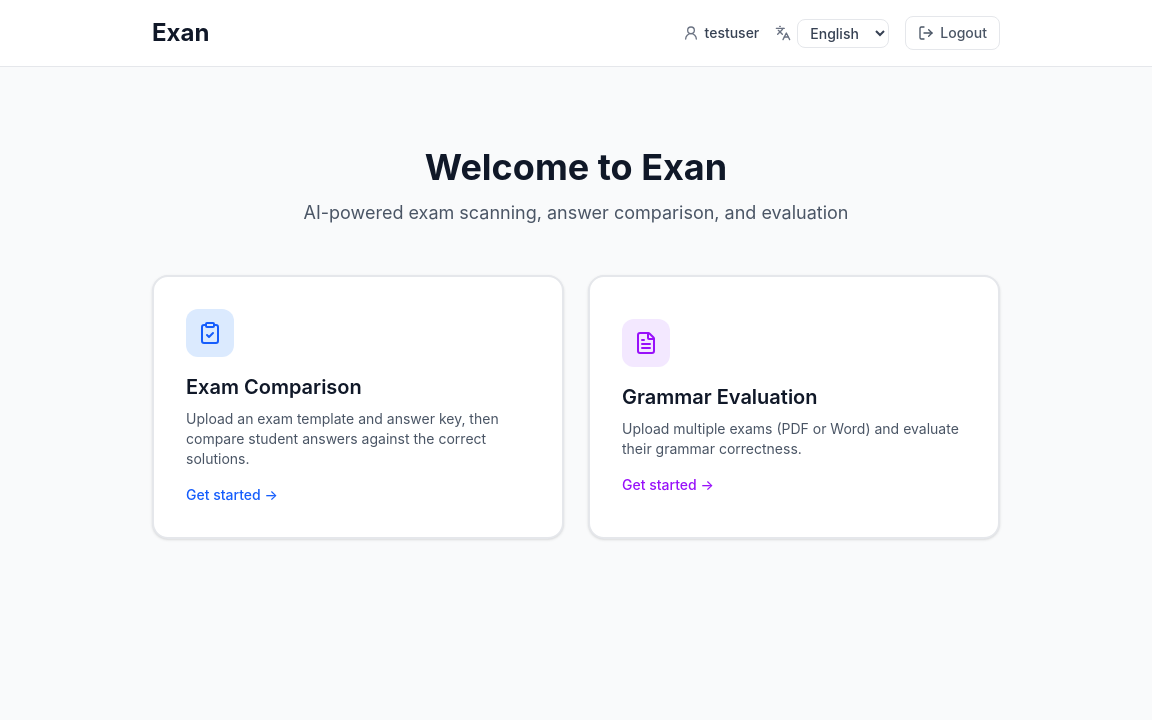
it: App › when authenticated › returns to landing page when clicking Exan logo
What coordinates should you click on to do the following:
click the heading "Exam Comparison"
I would click on:
 (274, 387)
Its box is [186,375,362,399].
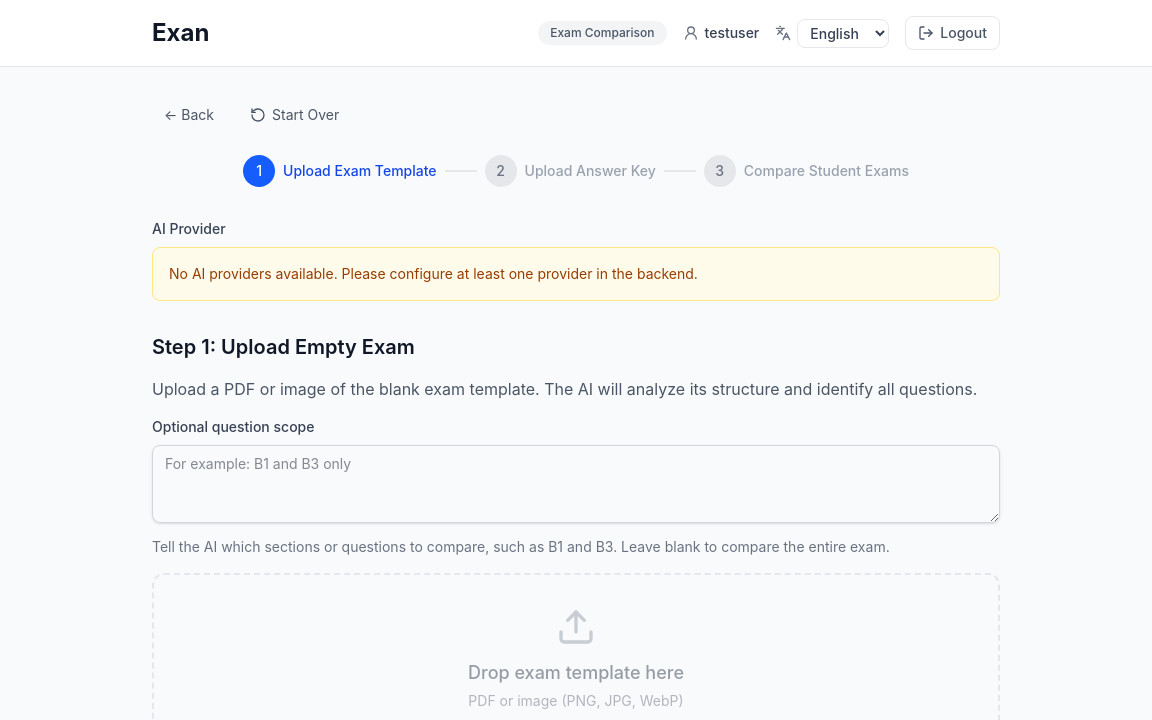
Check: the heading "Step 1: Upload Empty Exam" is shown, box [152,335,415,359]
What coordinates should you click on to do the following:
click the button "Exan"
I would click on:
 (181, 33)
Its box is [152,17,209,49].
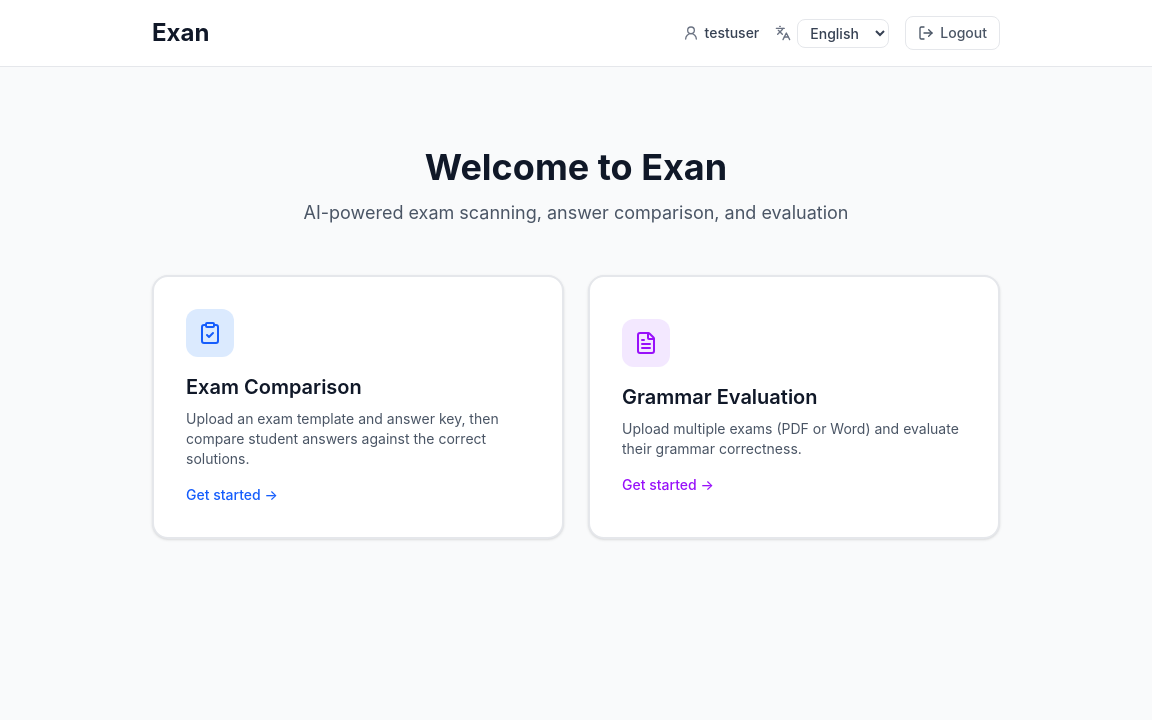
Check: the heading "Welcome to Exan" is shown, box [425,145,727,189]
